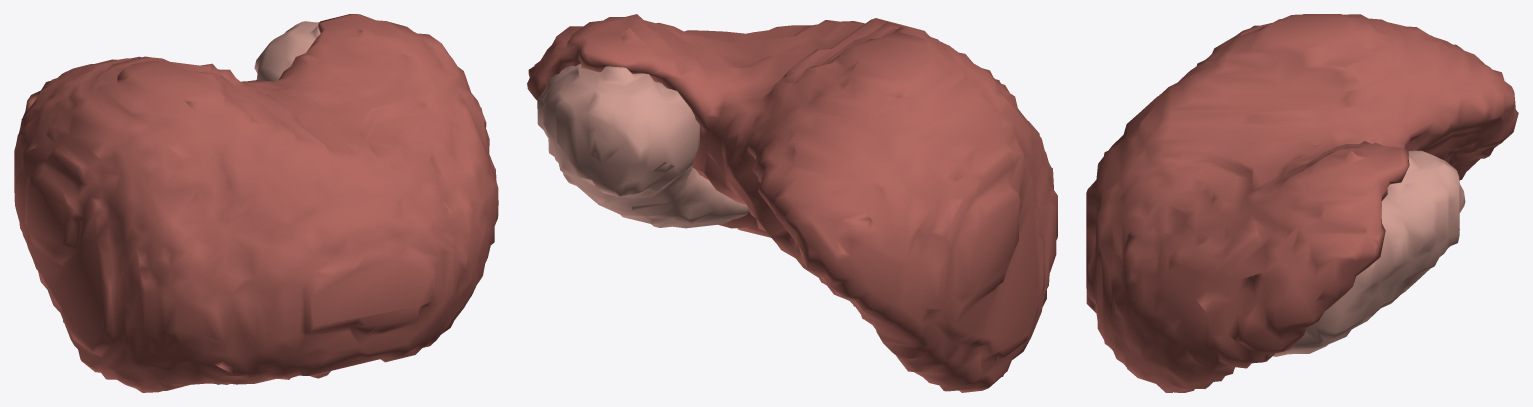
The model's file is fetus.digestive.LOD2.glb.
The picture shows the model from 3 angles, left to right: view 1: azimuth 30°, elevation 25°; view 2: azimuth 150°, elevation 25°; view 3: azimuth 270°, elevation 25°; orthographic projection. The views are drawn at different scales.
Visible parts, largest first — view 1: FETUS.DIGESTIVE.LIVER, FETUS.DIGESTIVE.STOMACH; view 2: FETUS.DIGESTIVE.LIVER, FETUS.DIGESTIVE.STOMACH; view 3: FETUS.DIGESTIVE.LIVER, FETUS.DIGESTIVE.STOMACH.
Part boxes in pixels (box(x1,y1,x2,y2)): FETUS.DIGESTIVE.LIVER: box(14, 14, 498, 392); FETUS.DIGESTIVE.STOMACH: box(254, 21, 320, 81); FETUS.DIGESTIVE.LIVER: box(527, 14, 1057, 392); FETUS.DIGESTIVE.STOMACH: box(537, 64, 749, 228); FETUS.DIGESTIVE.LIVER: box(1086, 14, 1518, 392); FETUS.DIGESTIVE.STOMACH: box(1273, 150, 1465, 356).
Size of the model in its own units: 0.0676 by 0.0429 by 0.0591.
